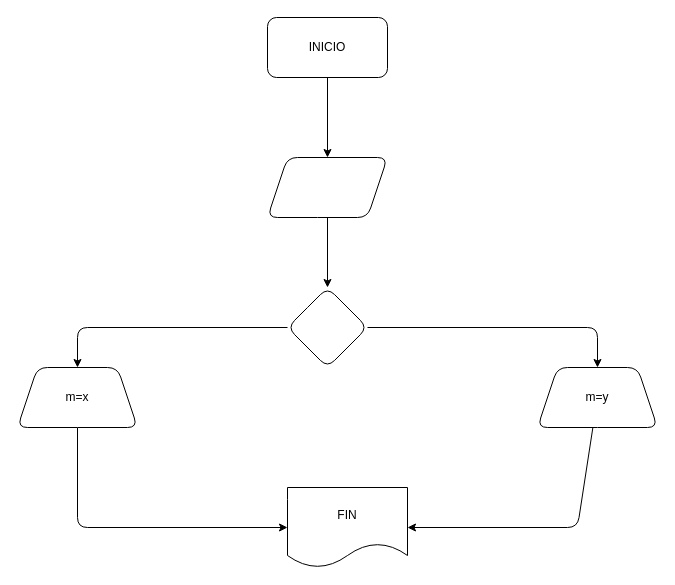
Some shapes in this 675 by 585 pixel diagram are drawn without their labels. Here are the shapes that lost their labels. From the top down, the centre of each, then its label:
At pixel 327 187: "X, Y".
At pixel 327 327: "X ≠y".
